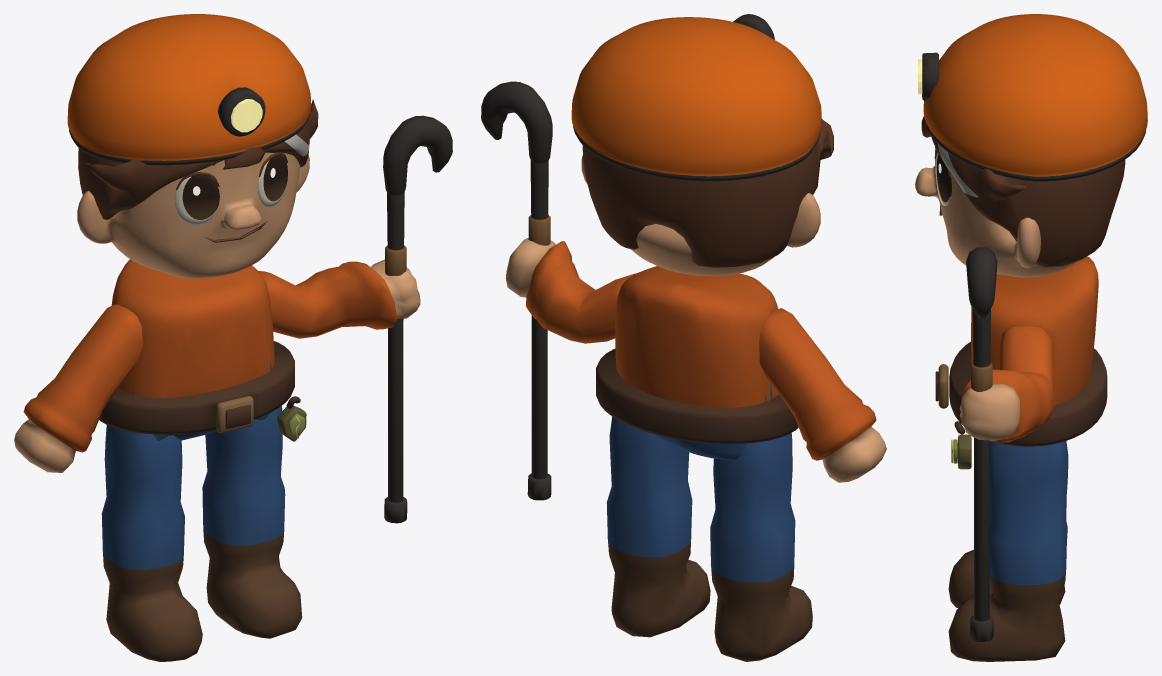
Rendered from PIP_KESSEL.glb.
3 views of the same model, side by side, from view 1: azimuth 30°, elevation 25°; view 2: azimuth 150°, elevation 25°; view 3: azimuth 270°, elevation 25° (orthographic). The views are drawn at different scales.
Visible parts, largest first — view 1: body (×2), legL, armR, legR, armL; view 2: body, legL, legR, armR, armL; view 3: body, legR, armR, legL.
Boxes of the visible parts, <box> form: body (×2): <box>67,14,318,441</box>; legL: <box>101,425,202,661</box>; armR: <box>258,115,452,523</box>; legR: <box>202,406,302,638</box>; armL: <box>14,304,143,472</box>; body: <box>571,14,833,460</box>; legL: <box>710,433,812,661</box>; legR: <box>606,417,710,637</box>; armR: <box>481,81,635,500</box>; armL: <box>759,308,886,482</box>; body: <box>915,14,1147,469</box>; legR: <box>948,441,1068,661</box>; armR: <box>959,247,1053,641</box>; legL: <box>948,483,1067,608</box>.
Bounding box in the file's own units: 0.7206 × 1 × 0.3544.
